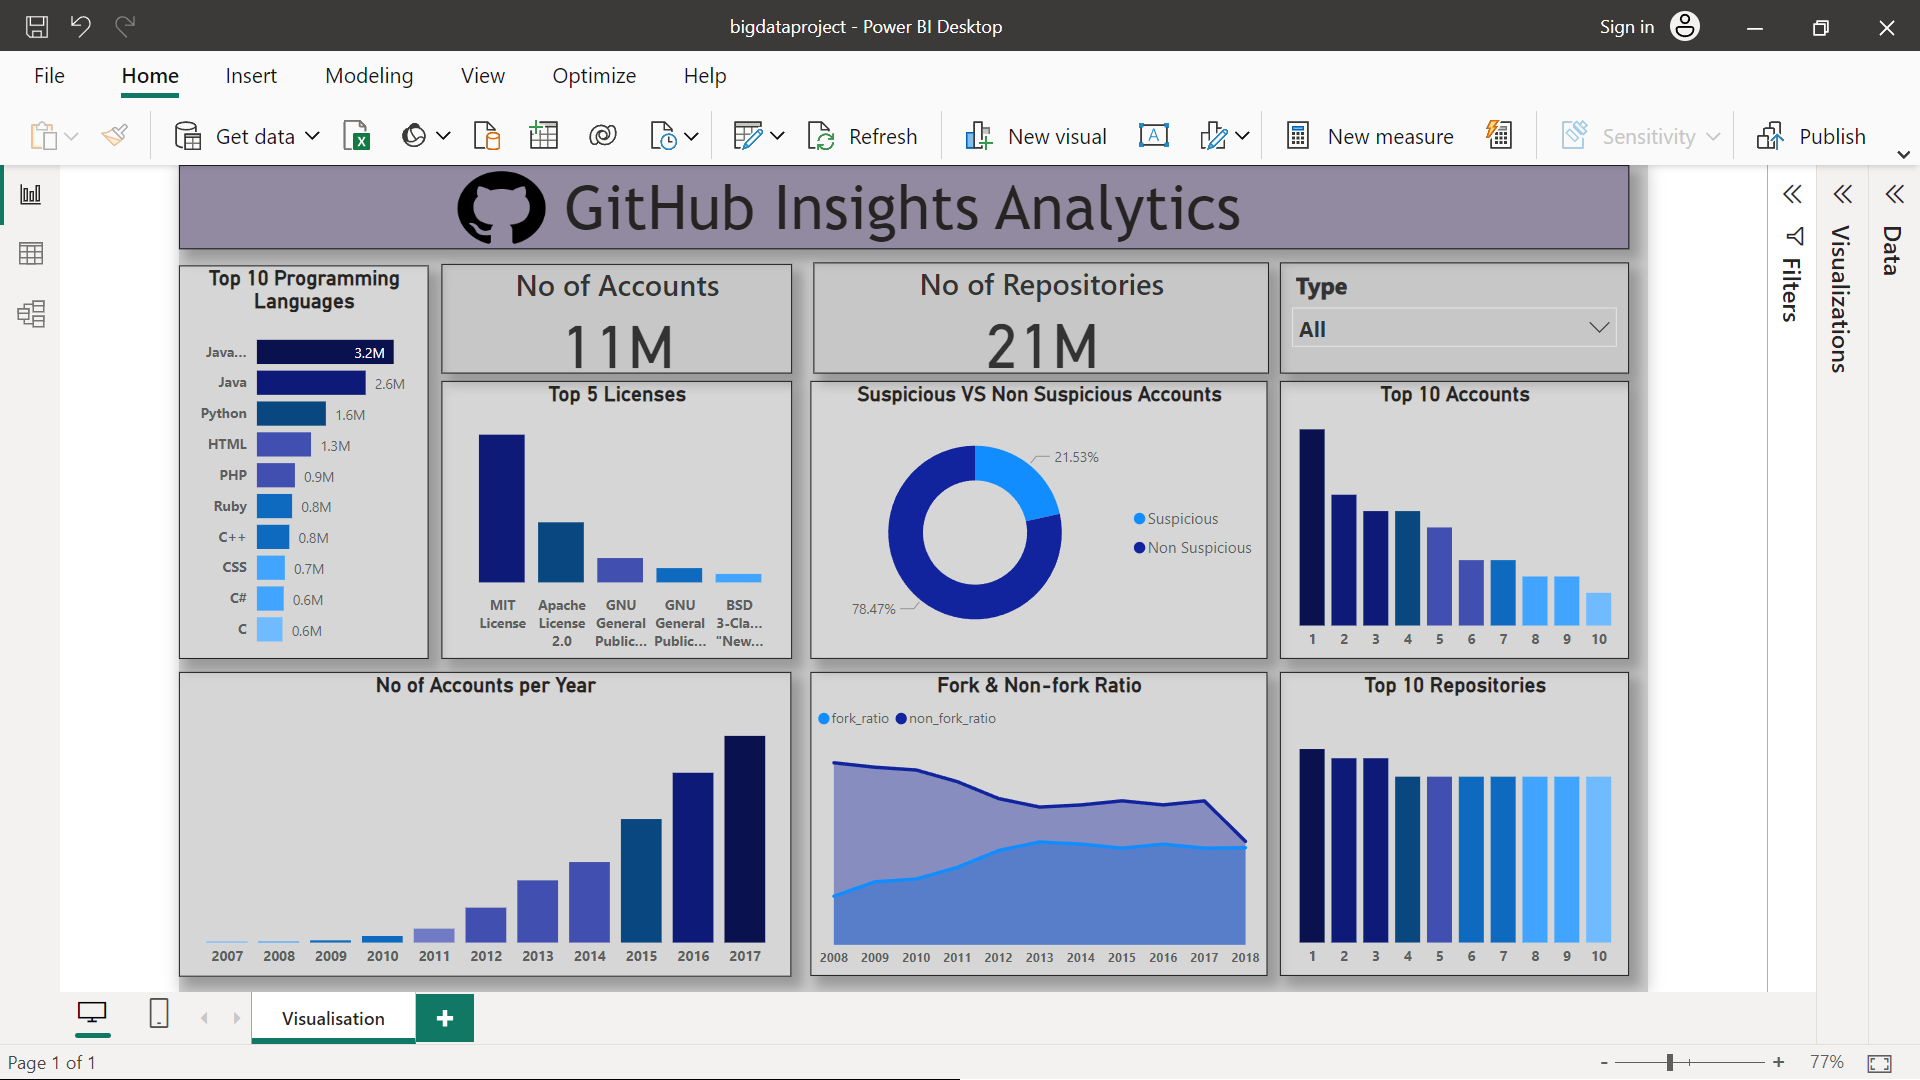

What the dashboard file says about the page in this screenshot:
{"tool":"powerbi","page":{"name":"Visualisation","canvas":[1280,720],"ordinal":0},"visuals":[{"type":"slicer","fields":{"Values":["count_of_id_by_year_and_month.type"]},"box":[959.2,84.7,304.1,96.8],"z":0},{"type":"card","title":"No of Accounts","fields":{"Values":["Sum(count_of_id_by_year_and_month.count)"]},"box":[228.3,86.7,305,95],"z":1000},{"type":"clusteredBarChart","title":"Top 10 Programming Languages","fields":{"Category":["count_of_language.language"],"Y":["Sum(count_of_language.id_count)"]},"box":[0,87.1,217.1,342.9],"z":2000},{"type":"clusteredColumnChart","title":"Top 5 Licenses","fields":{"Category":["license_view.license"],"Y":["Sum(license_view.no. of users)"]},"box":[228.3,188.3,305,241.7],"z":3000},{"type":"card","title":"No of Repositories","fields":{"Values":["Sum(repository_creation_count_by_type.repository count)"]},"box":[552.2,84.7,396.4,96.8],"z":4000},{"type":"clusteredColumnChart","title":"No of Accounts per Year","fields":{"Y":["Sum(count_of_id_by_year_and_month.count)"],"Category":["count_of_id_by_year_and_month.year_wise","count_of_id_by_year_and_month.month_wise"]},"box":[0,441.7,533.3,265],"z":5000},{"type":"areaChart","title":"Fork & Non-fork Ratio ","fields":{"Y":["Sum(repoforkratio.fork_ratio)","Sum(repoforkratio.non_fork_ratio)"],"Category":["repoforkratio.year"]},"box":[550.7,441.8,397.9,264.8],"z":6000},{"type":"donutChart","title":"Suspicious VS Non Suspicious Accounts","fields":{"Y":["Sum(view_suspicious_counts_by_year_month.suspicious_count)","Sum(view_suspicious_counts_by_year_month.non_suspicious_count)"]},"box":[550.7,187.6,397.9,242.1],"z":7000},{"type":"textbox","box":[0,0,1263.3,73.3],"z":8000},{"type":"clusteredColumnChart","title":"Top 10 Accounts","fields":{"Y":["Sum(final_top_10_accounts.score)"],"Category":["final_top_10_accounts.score_rank"]},"box":[959.2,187.6,304.1,242.1],"z":9000},{"type":"clusteredColumnChart","title":"Top 10 Repositories","fields":{"Y":["Sum(final_top_10_repos.score)"],"Category":["final_top_10_repos.score_rank"]},"box":[959.2,441.8,304.1,264.8],"z":12001},{"type":"image","box":[228.3,0,105,73.3],"z":12002}]}

Visuals, with their boxes on the page's 1280x720 design canvas (x1, y1, x2, y2). These are canvas units, not pixel positions in the 1920x1080 screenshot, which may show the page scaled, cropped or inside an application window:
slicer - count_of_id_by_year_and_month.type: [left=959, top=85, right=1263, bottom=182]
"No of Accounts" card: [left=228, top=87, right=533, bottom=182]
"Top 10 Programming Languages" clusteredBarChart: [left=0, top=87, right=217, bottom=430]
"Top 5 Licenses" clusteredColumnChart: [left=228, top=188, right=533, bottom=430]
"No of Repositories" card: [left=552, top=85, right=949, bottom=182]
"No of Accounts per Year" clusteredColumnChart: [left=0, top=442, right=533, bottom=707]
"Fork & Non-fork Ratio " areaChart: [left=551, top=442, right=949, bottom=707]
"Suspicious VS Non Suspicious Accounts" donutChart: [left=551, top=188, right=949, bottom=430]
textbox: [left=0, top=0, right=1263, bottom=73]
"Top 10 Accounts" clusteredColumnChart: [left=959, top=188, right=1263, bottom=430]
"Top 10 Repositories" clusteredColumnChart: [left=959, top=442, right=1263, bottom=707]
image: [left=228, top=0, right=333, bottom=73]
